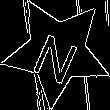N_NE: (28, 20, 85, 82)
